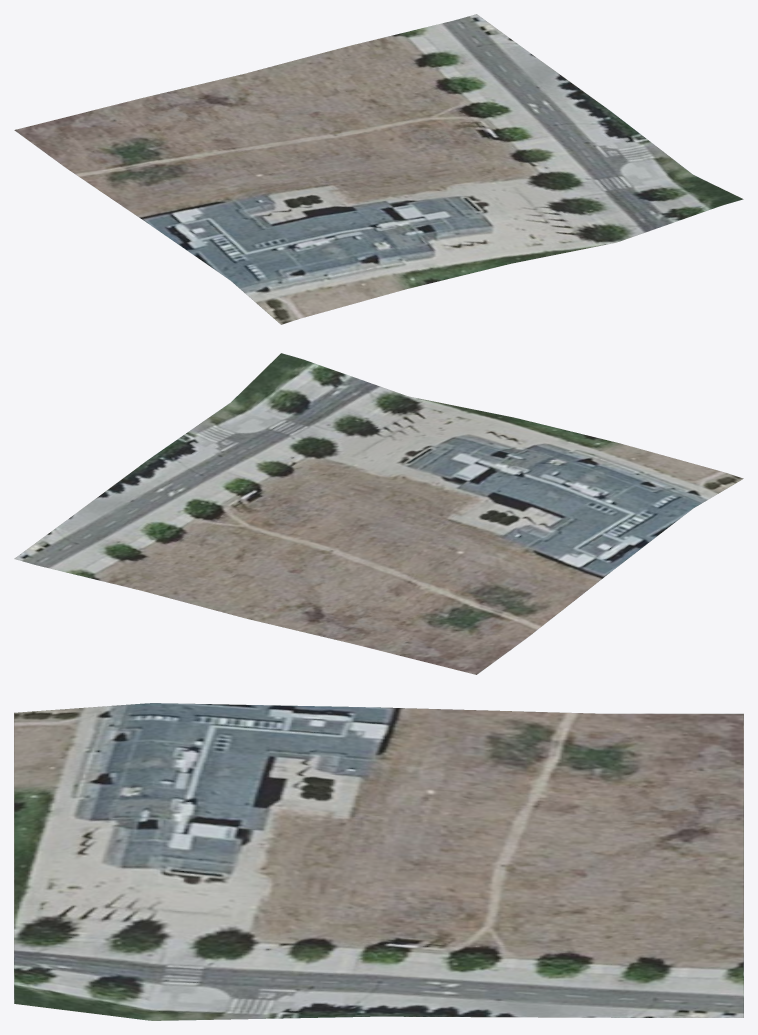
File: gis_mic_recinto.dae
3 views of the same model, one above another, from view 1: azimuth 30°, elevation 25°; view 2: azimuth 150°, elevation 25°; view 3: azimuth 270°, elevation 25° (orthographic). The views are drawn at different scales.
Parts seen in each view (by area): view 1: terrain_node; view 2: terrain_node; view 3: terrain_node.
Boxes of the visible parts, <box> form: terrain_node: <box>14,14,743,324</box>; terrain_node: <box>14,353,743,674</box>; terrain_node: <box>14,703,743,1020</box>.
Size of the model in its own units: 100 by 100 by 3.38.
Materials: 1 (1 with a texture image).
